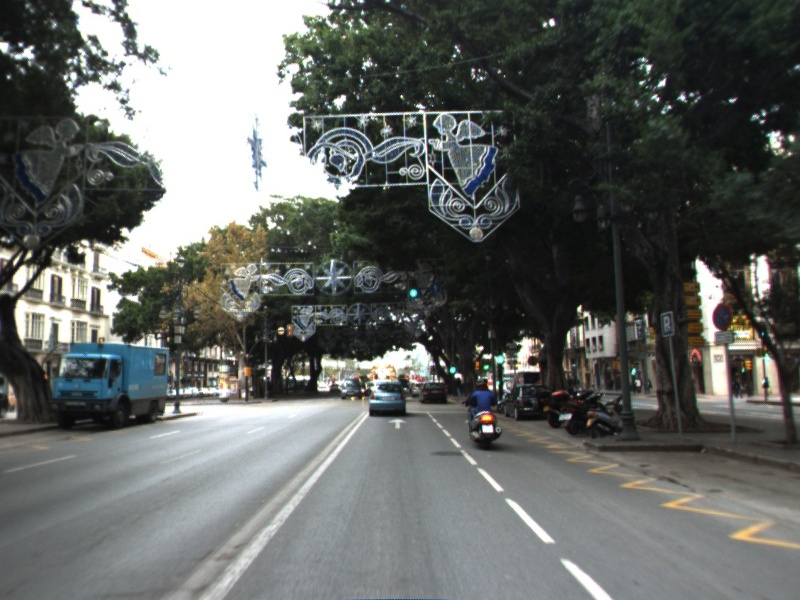STRAIGHT: (385, 416, 409, 430)
